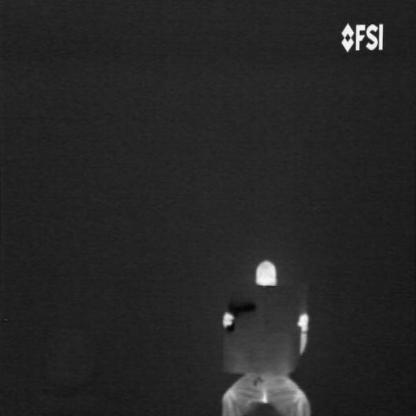weapon: (225, 299, 259, 337)
